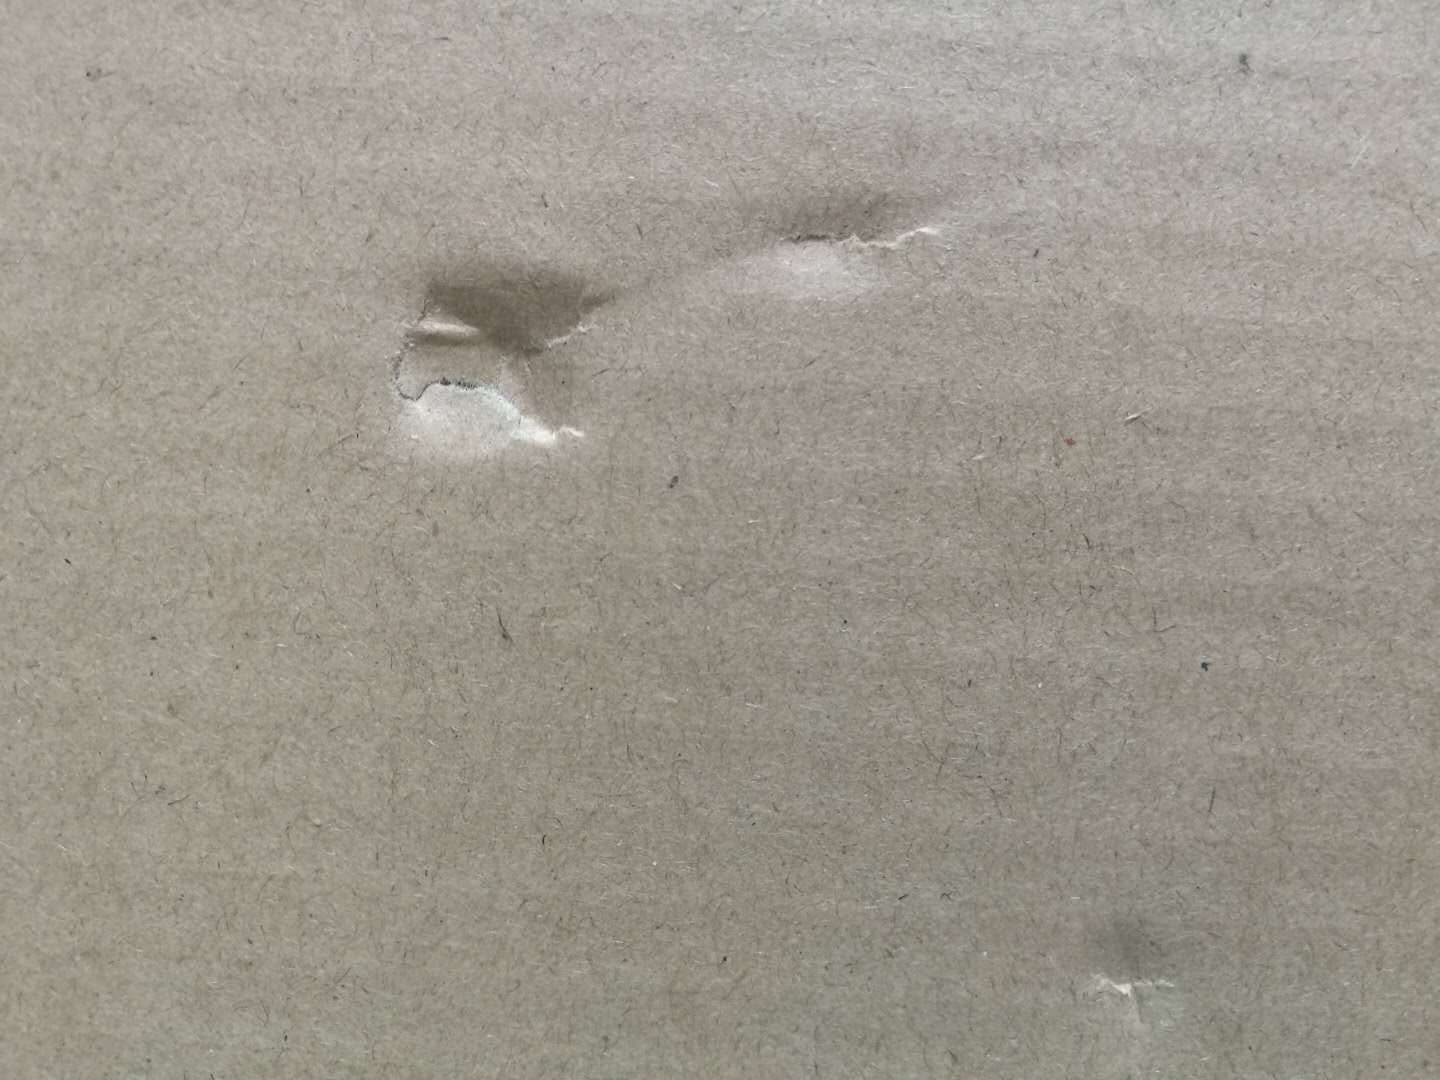defect: (345, 223, 639, 484), (720, 172, 972, 305), (1060, 911, 1204, 1049)
